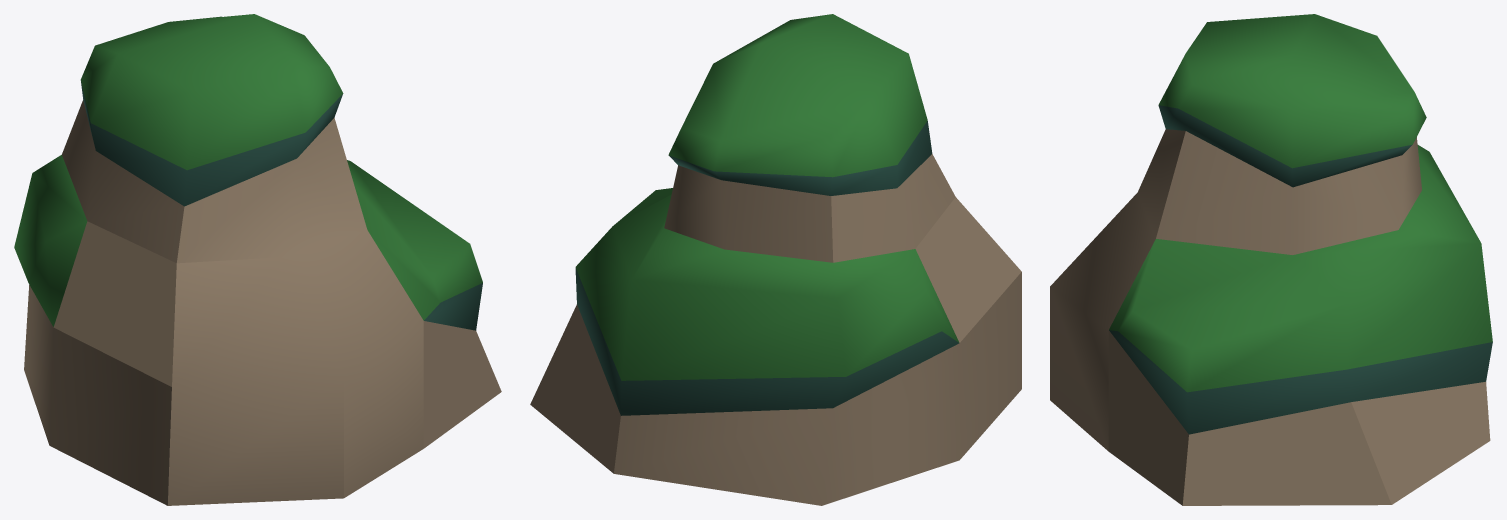
The model's file is Dirt_Mound_02.fbx.
3 views of the same model, side by side, from view 1: azimuth 30°, elevation 25°; view 2: azimuth 150°, elevation 25°; view 3: azimuth 270°, elevation 25° (orthographic). The views are drawn at different scales.
Visible parts, largest first — view 1: Dirt_Mound_02; view 2: Dirt_Mound_02; view 3: Dirt_Mound_02.
Part boxes in pixels (x1,y1,x2,y2): Dirt_Mound_02: (14,14,501,505); Dirt_Mound_02: (530,14,1021,505); Dirt_Mound_02: (1050,14,1492,505).
Bounding box in the file's own units: 315 × 290 × 321.
